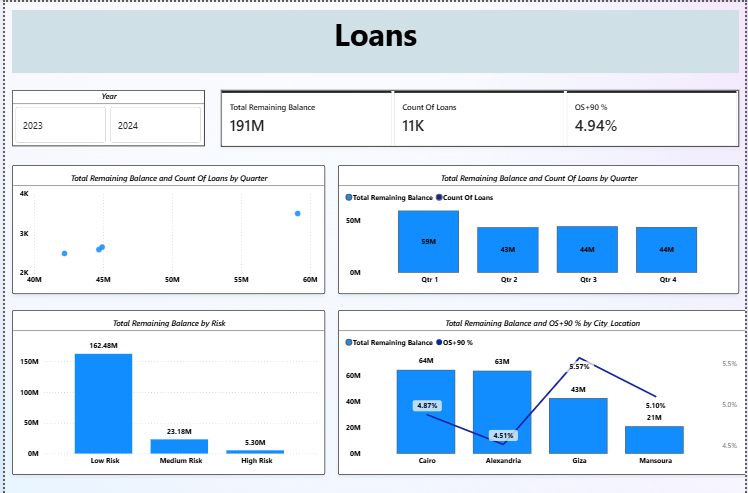

The page's visual inventory and layout, read from the dashboard file:
{"tool":"powerbi","page":{"name":"Loans ","canvas":[1280,850],"ordinal":0},"visuals":[{"type":"cardVisual","fields":{"Data":["Measure.Total Remaining Balance","Measure.Count Of Loans","Measure.OS+90 %"]},"box":[373.2,152,894.9,98.5],"z":0},{"type":"columnChart","fields":{"Category":["Fact_Sales.Risk"],"Y":["Measure.Total Remaining Balance"]},"box":[12.1,532.1,540.8,285.1],"z":1},{"type":"lineStackedColumnComboChart","fields":{"Category":["Dim_Branches.City_Location"],"Y":["Measure.Total Remaining Balance"],"Y2":["Measure.OS+90 %"]},"box":[575.3,532.1,704.9,285.1],"z":2},{"type":"columnChart","fields":{"Category":["Fact_Sales.Order_Date.Variation.Date Hierarchy.Quarter","Fact_Sales.Order_Date.Variation.Date Hierarchy.Month","Fact_Sales.Order_Date.Variation.Date Hierarchy.Day"],"Y":["Measure.Total Remaining Balance","Measure.Count Of Loans"]},"box":[575.3,281.6,692.8,222.9],"z":3},{"type":"advancedSlicerVisual","fields":{"Values":["Fact_Sales.Order_Date.Variation.Date Hierarchy.Year"]},"box":[12.1,152,333.4,96.7],"z":4},{"type":"scatterChart","fields":{"Category":["Fact_Sales.Next_Due_Date.Variation.Date Hierarchy.Quarter","Fact_Sales.Next_Due_Date.Variation.Date Hierarchy.Month","Fact_Sales.Next_Due_Date.Variation.Date Hierarchy.Day"],"X":["Measure.Total Remaining Balance"],"Y":["Measure.Count Of Loans"]},"box":[12.1,281.6,540.8,222.9],"z":5},{"type":"textbox","box":[12.1,13.8,1256,108.8],"z":6}]}

Visuals, with their boxes in screenshot pixels (x1, y1, x2, y2), scaled from the page's 1280x850 canvas onto the 748x493 screenshot:
cardVisual - Measure.Total Remaining Balance x Measure.Count Of Loans: BBox(218, 88, 741, 145)
columnChart - Fact_Sales.Risk x Measure.Total Remaining Balance: BBox(7, 309, 323, 474)
lineStackedColumnComboChart - Dim_Branches.City_Location x Measure.Total Remaining Balance: BBox(336, 309, 747, 474)
columnChart - Fact_Sales.Order_Date.Variation.Date Hierarchy.Quarter x Fact_Sales.Order_Date.Variation.Date Hierarchy.Month: BBox(336, 163, 741, 293)
advancedSlicerVisual - Fact_Sales.Order_Date.Variation.Date Hierarchy.Year: BBox(7, 88, 202, 144)
scatterChart - Fact_Sales.Next_Due_Date.Variation.Date Hierarchy.Quarter x Fact_Sales.Next_Due_Date.Variation.Date Hierarchy.Month: BBox(7, 163, 323, 293)
textbox: BBox(7, 8, 741, 71)
